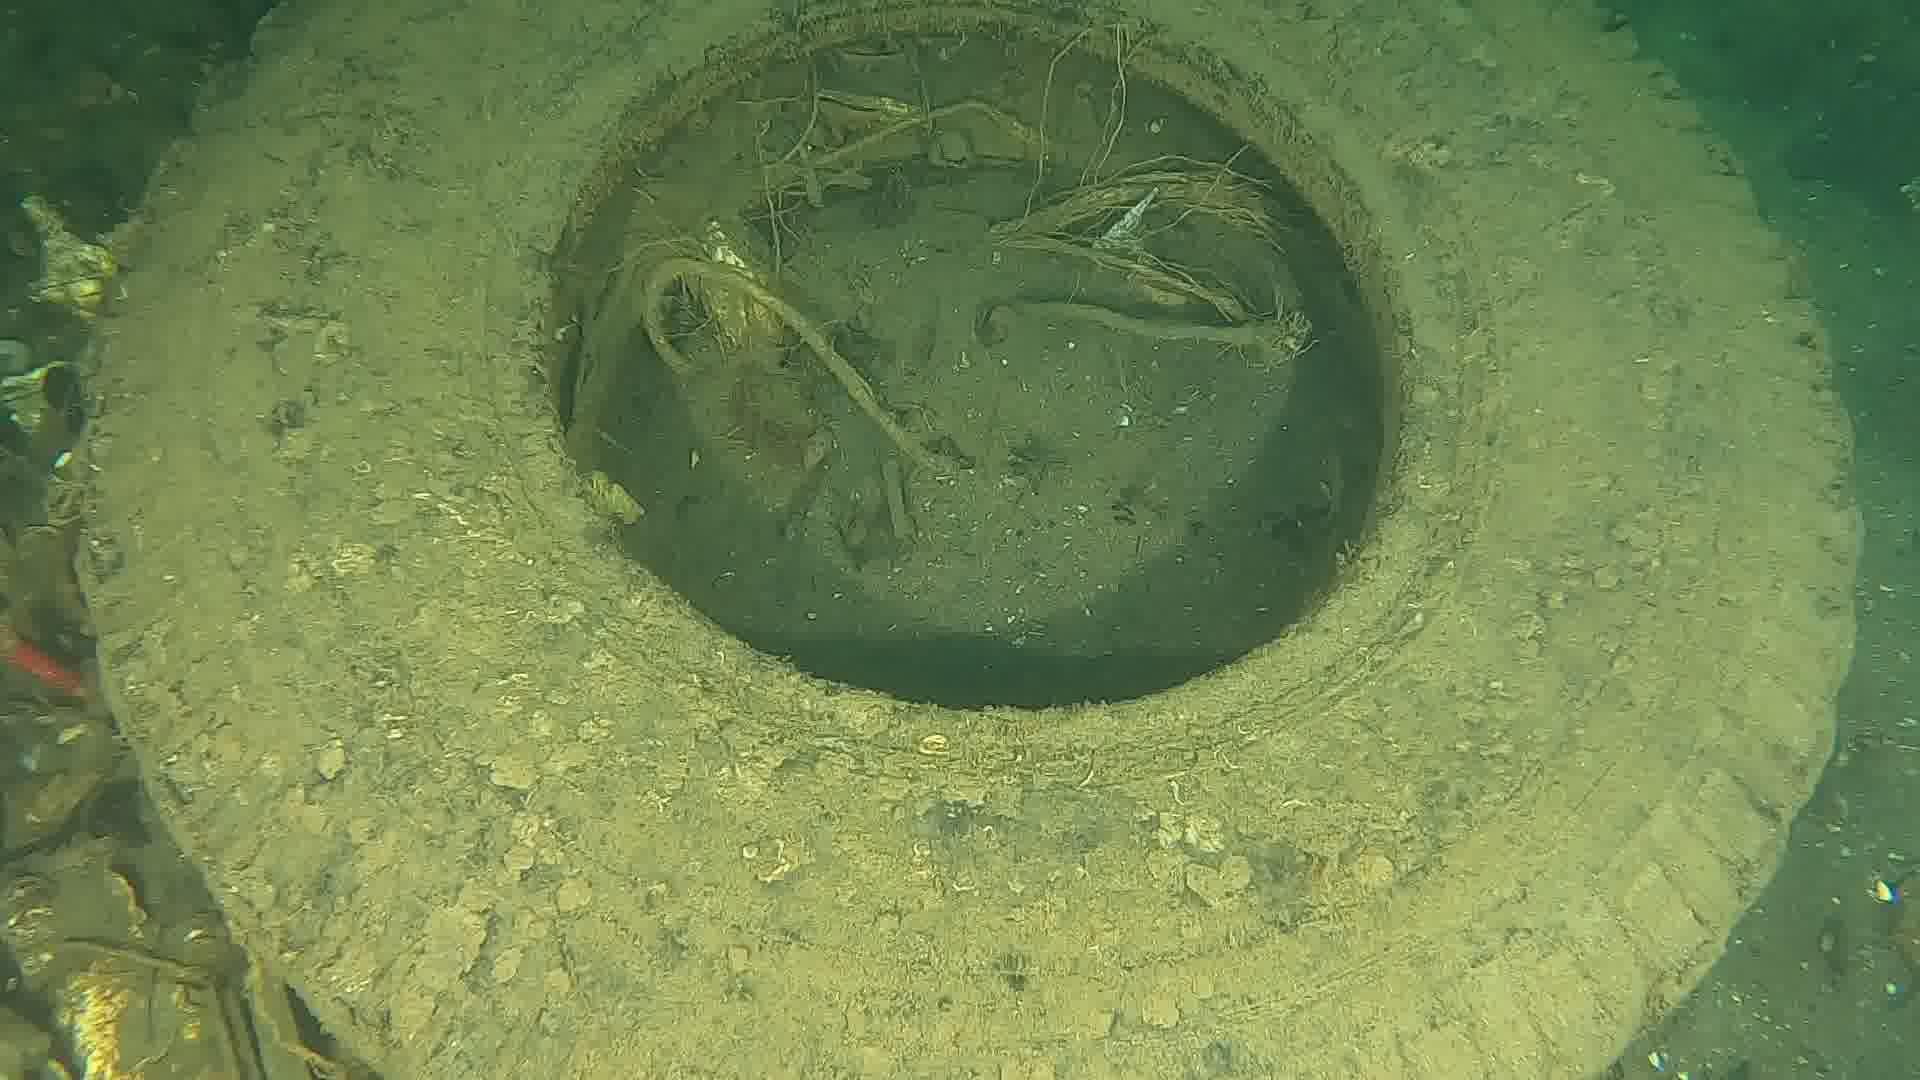tire: (75, 0, 1870, 1080)
